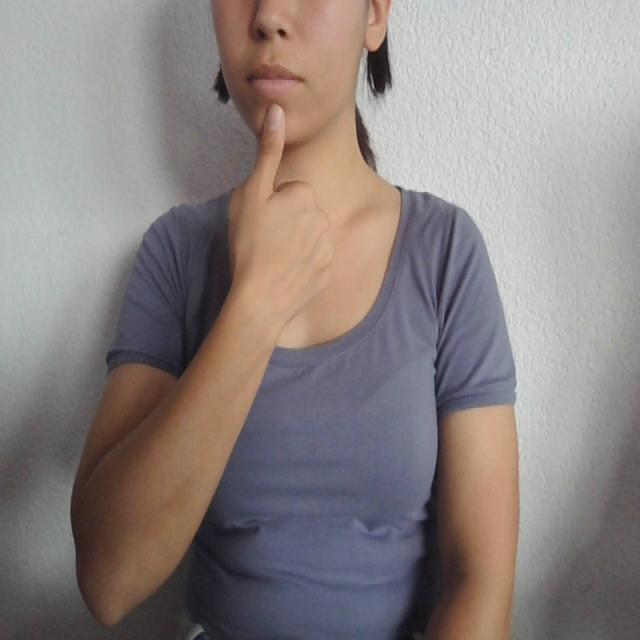Baba: (237, 49, 318, 178)
